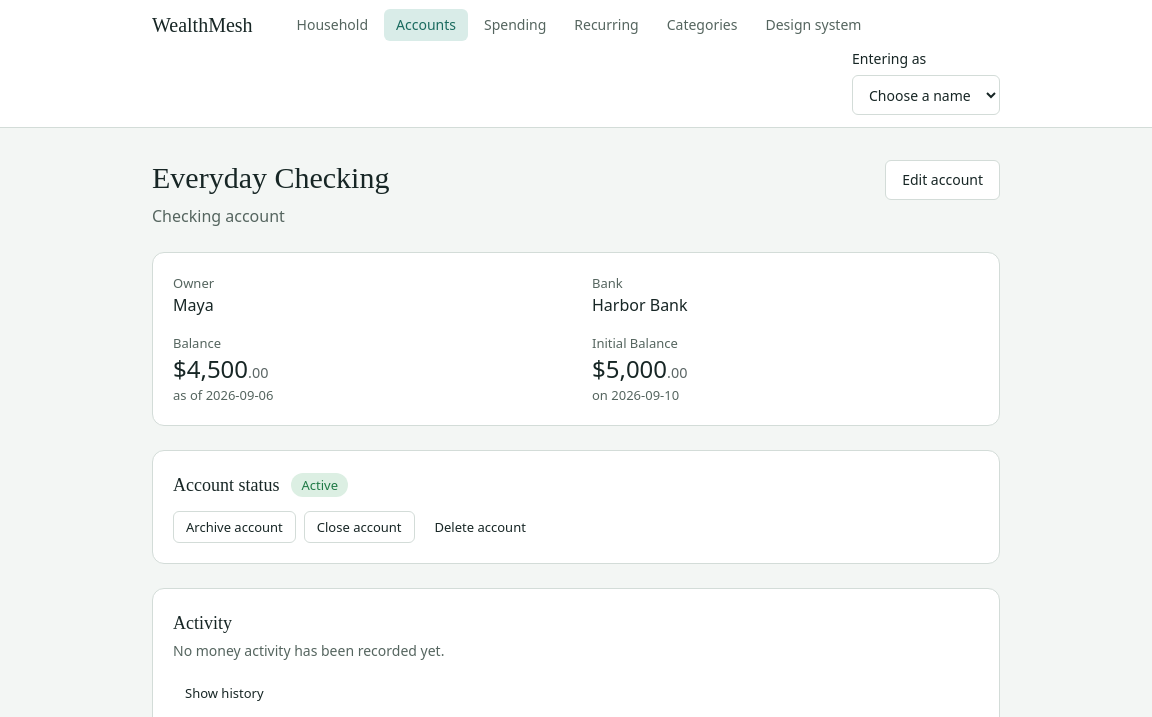
Scenario: correcting the starting balance › an Update balance dated before tracking began opens the starting balance review
Select "Maya" in the dropdown labelled "Entering as" at (926,95), box [852,75,1000,115]
(page scrolled)
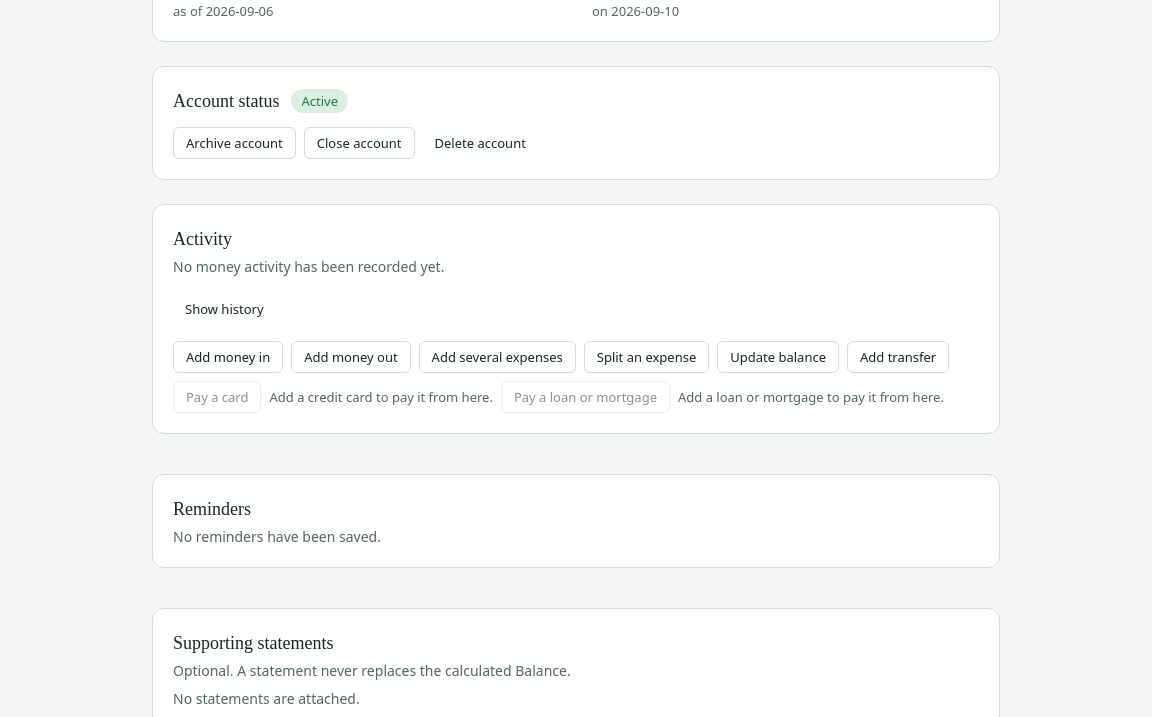
Click the button "Update balance" at (778,357), box [717,341,839,373]
(page scrolled)
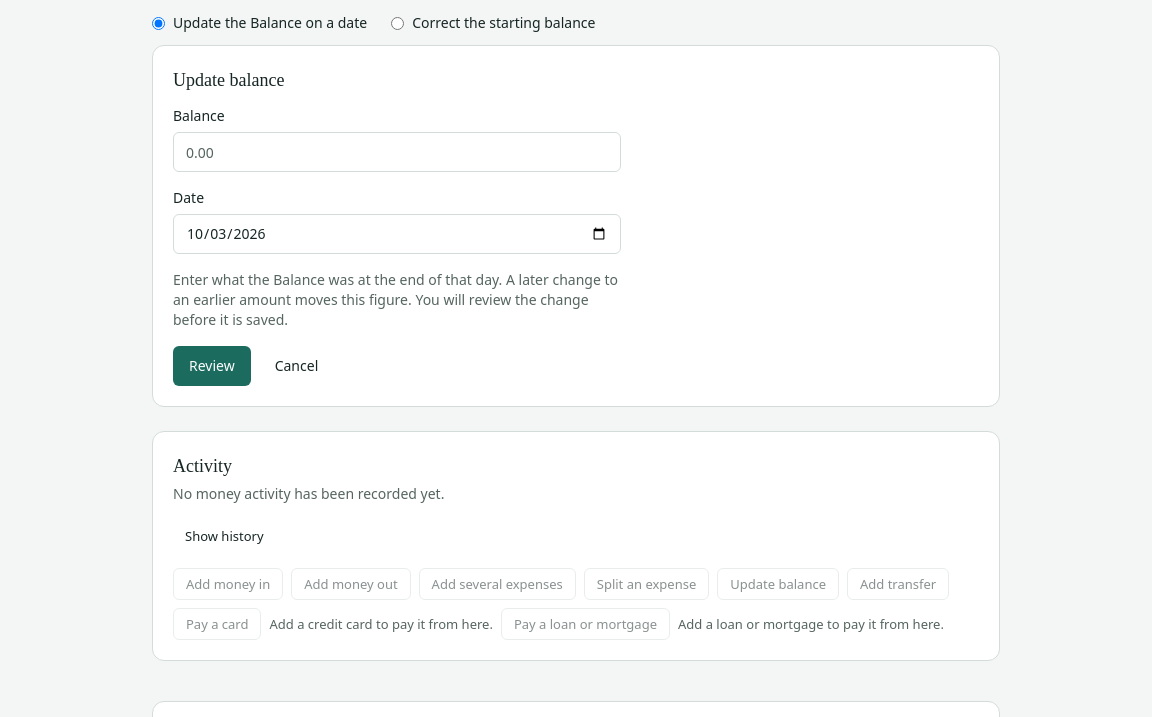
Type "6500" into the field labelled "Balance" at (397,152), box [173,132,621,172]
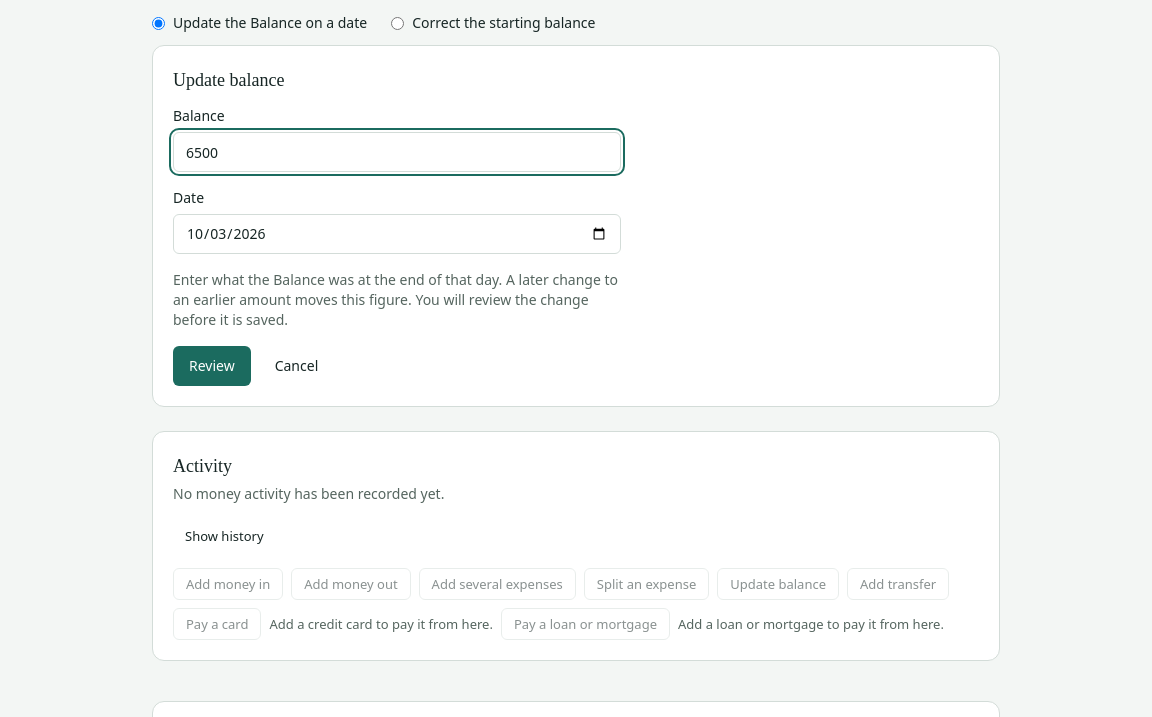
Type "2026-09-01" into the date field labelled "Date" at (397,234), box [173,214,621,254]
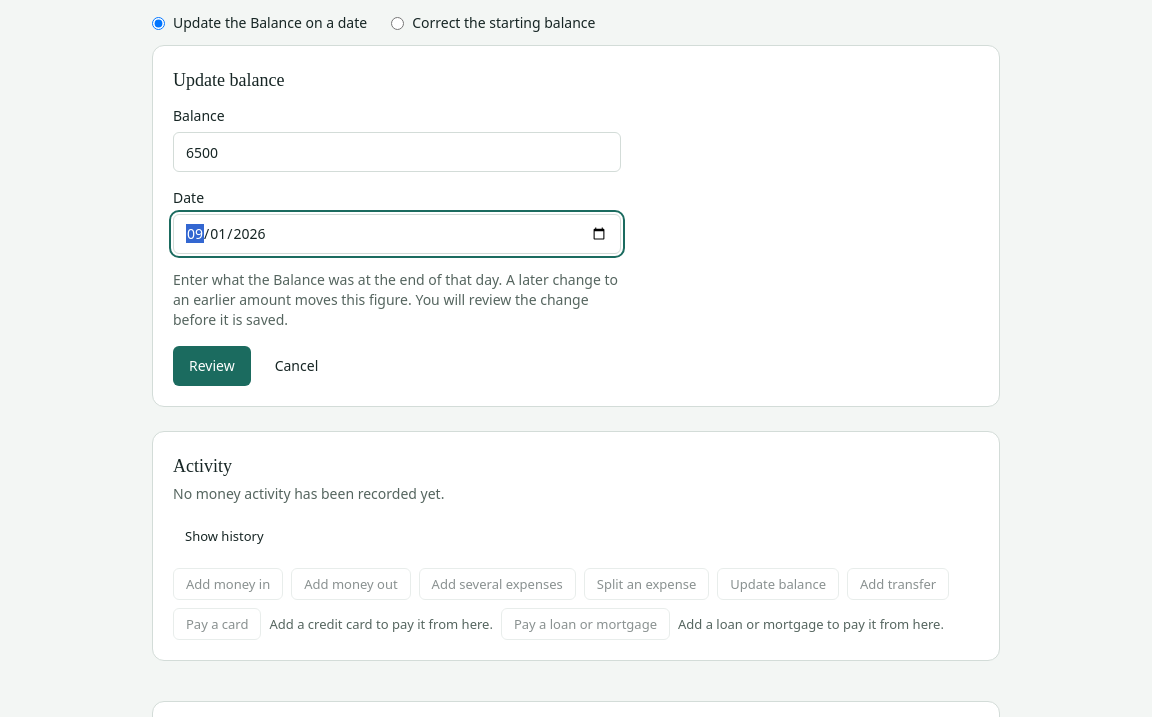
Click the button "Review" at (212,366), box [173,346,251,386]
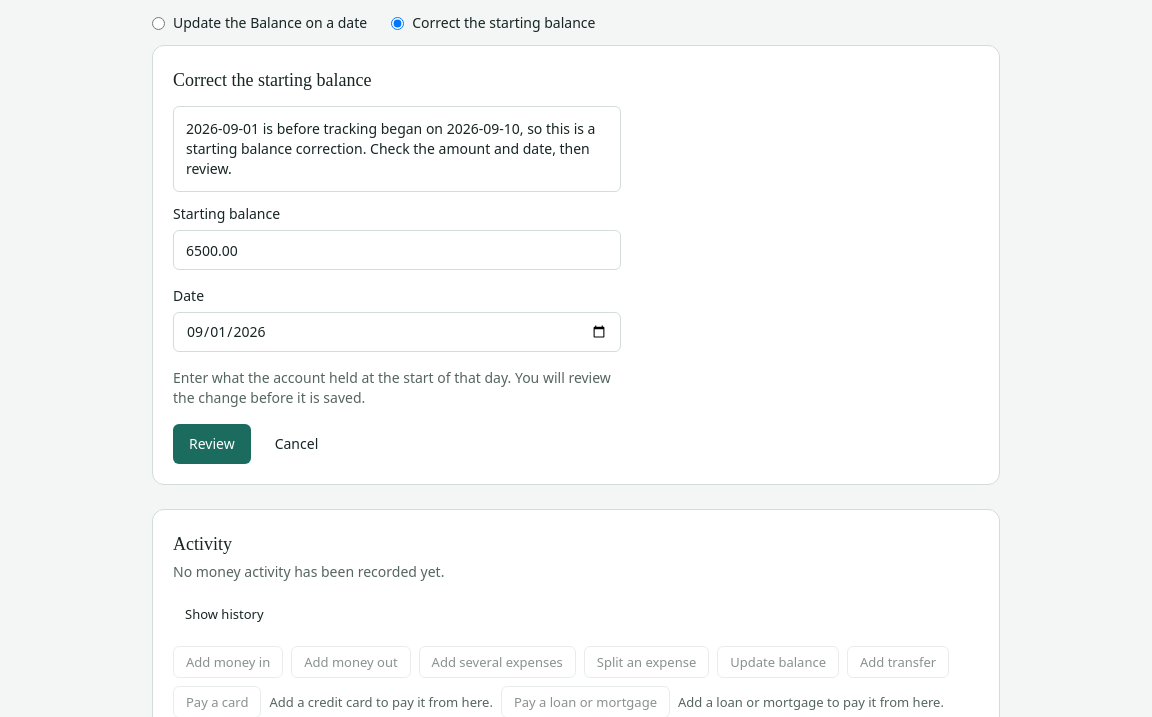
Check: the radio button labelled "Correct the starting balance" is checked, box [391,16,404,30]
Check: the field labelled "Starting balance" holds "6500.00", box [173,230,621,270]
Check: the message shows "before tracking began on 2026-09-10", box [173,106,621,192]
